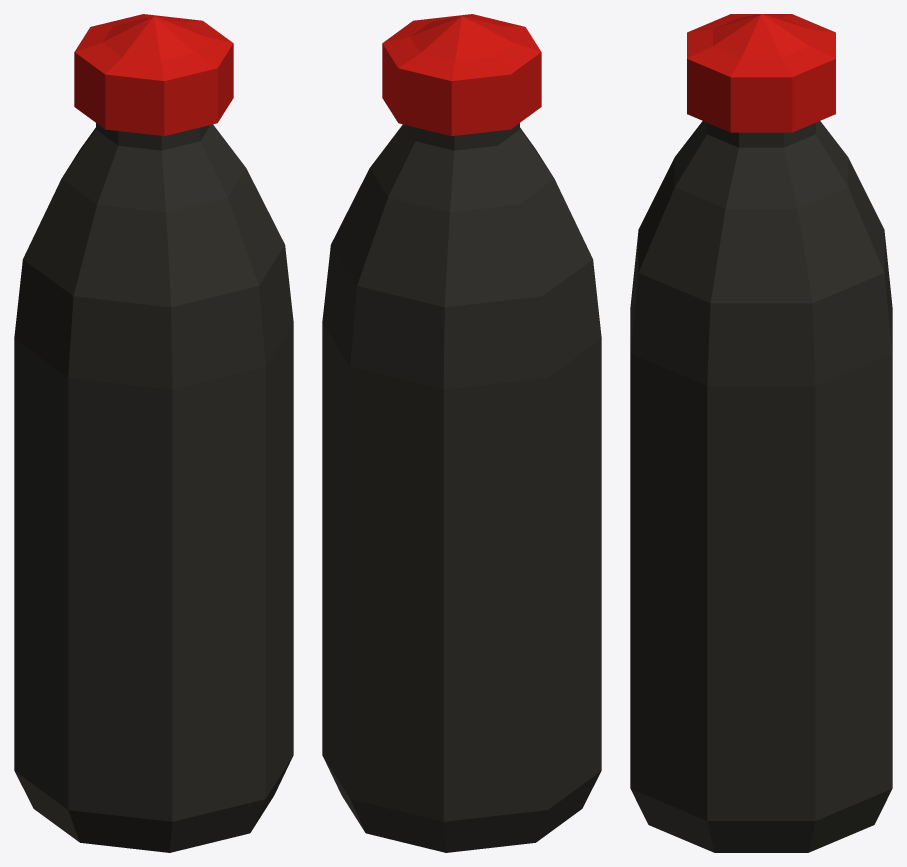
Rendered from SM_Cook_SauceBottle_Hoisin_01.glb.
3 renders of one model, left to right at view 1: azimuth 30°, elevation 25°; view 2: azimuth 150°, elevation 25°; view 3: azimuth 270°, elevation 25°, orthographic.
Visible parts, largest first — view 1: SM_Cook_SauceBottle_Hoisin_01; view 2: SM_Cook_SauceBottle_Hoisin_01; view 3: SM_Cook_SauceBottle_Hoisin_01.
Boxes of the visible parts, x1,y1,x2,y2 form: SM_Cook_SauceBottle_Hoisin_01: (14,14,293,852); SM_Cook_SauceBottle_Hoisin_01: (322,14,601,852); SM_Cook_SauceBottle_Hoisin_01: (630,14,892,852).
Bounding box in the file's own units: 0.0601 × 0.2 × 0.0601.
Materials: 1 (1 with a texture image).
